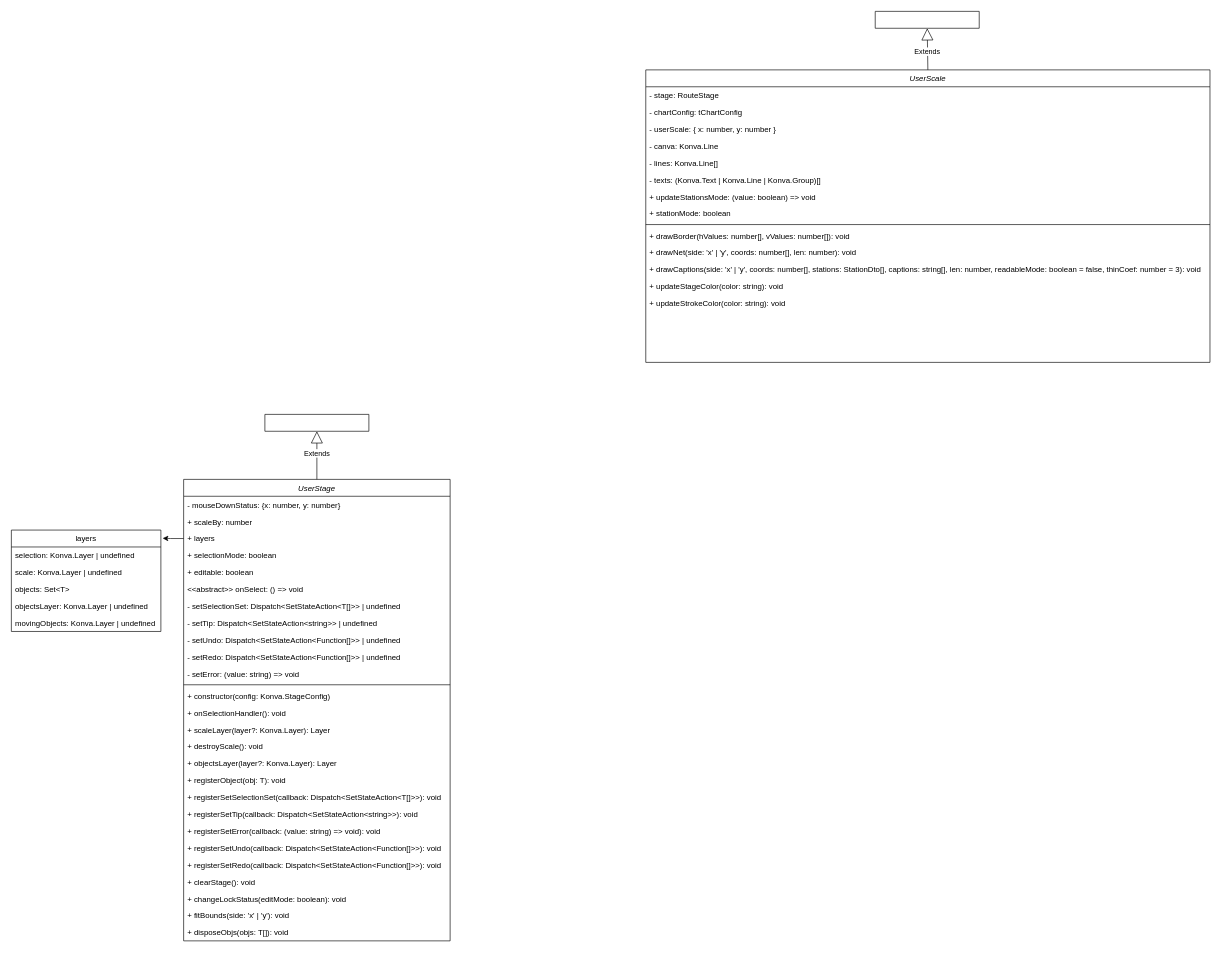
The diagram is 1221 pixels wide and 954 high, and some of its shapes have lost their labels. Each missing label, with the centre of its shape:
Konva.Layer: pixel 927 19
Konva.Stage: pixel 316 422
